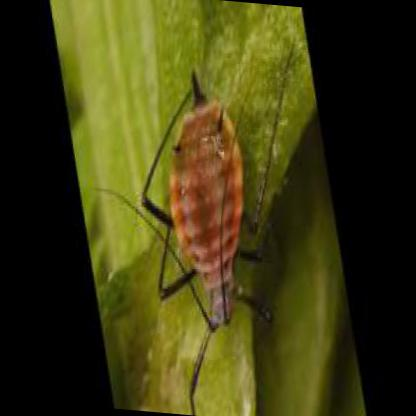uroleucon compositae: (162, 75, 261, 332)
